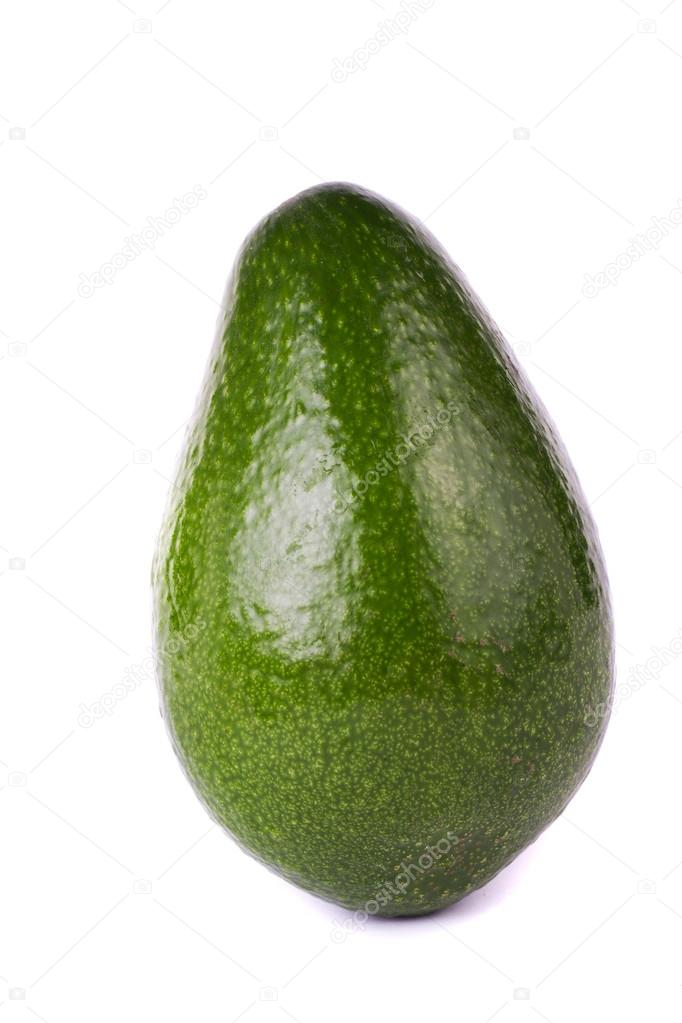abacate: (155, 184, 618, 914)
